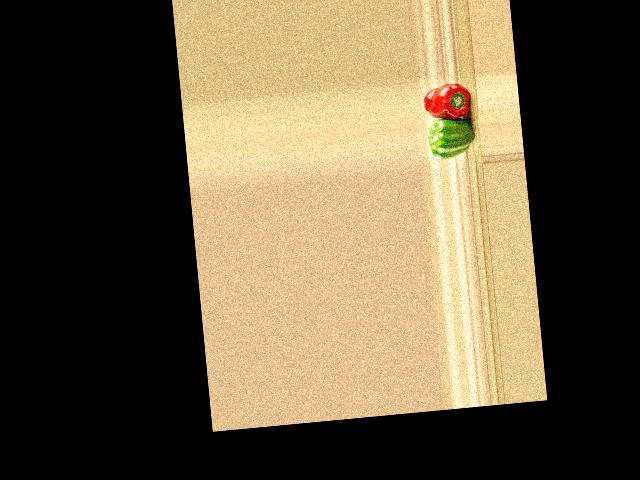bell_pepper: (422, 81, 472, 123)
